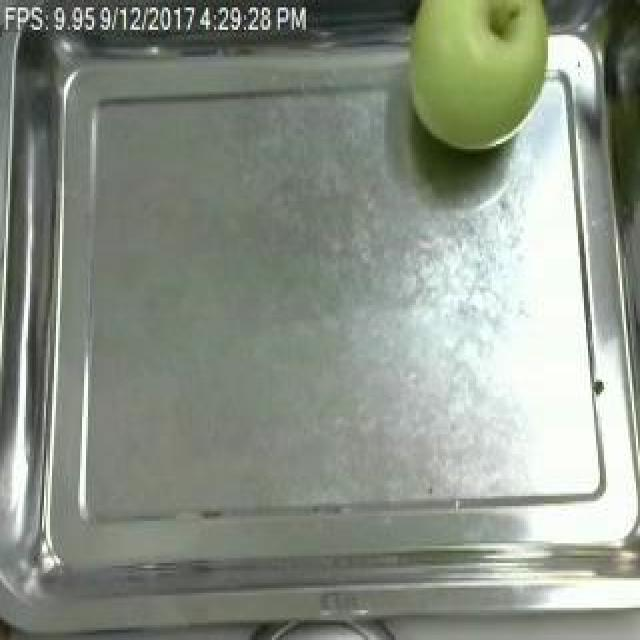Rotten Apple: (392, 0, 604, 176)
